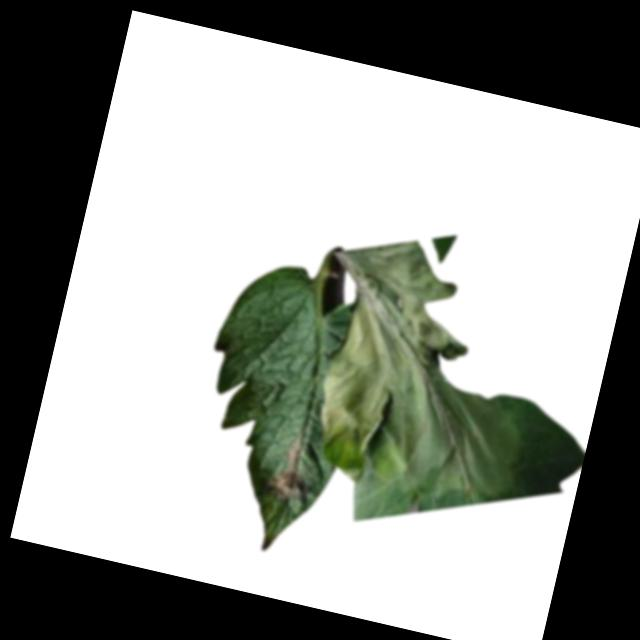Late_blight: (288, 225, 587, 522), (270, 442, 315, 506)
